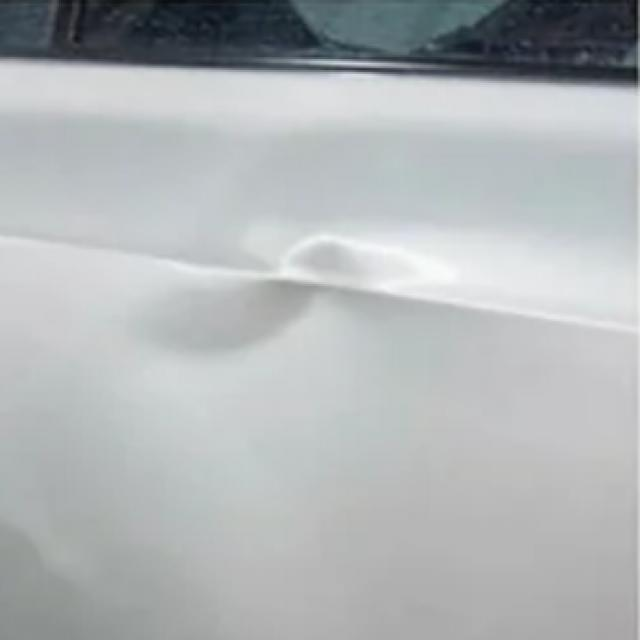dents: (116, 250, 382, 412), (276, 202, 455, 313)
